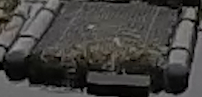bag: (5, 1, 197, 85)
